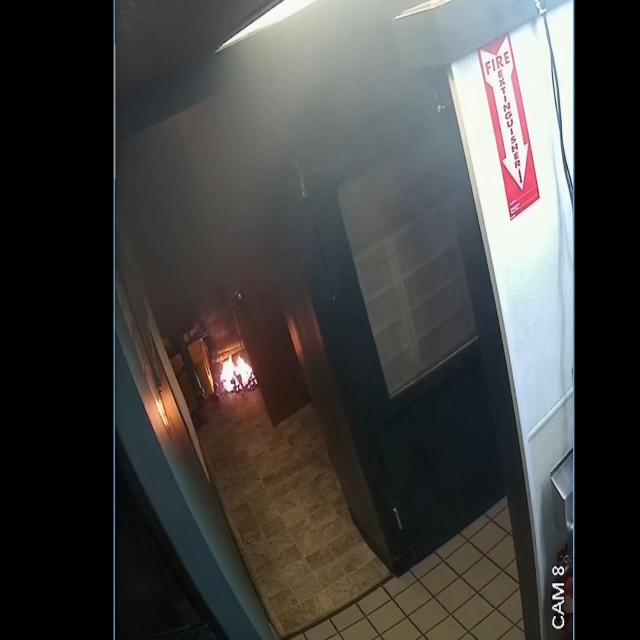fire: (219, 354, 253, 391)
